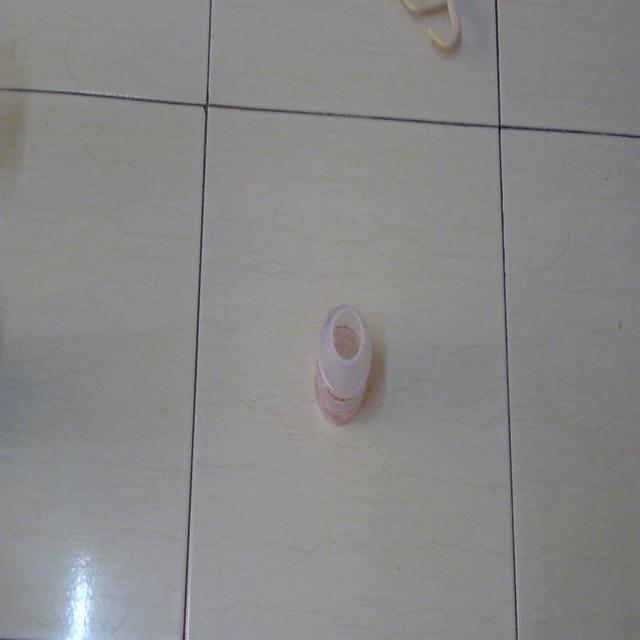plastic_standrotation: (309, 293, 375, 427)
